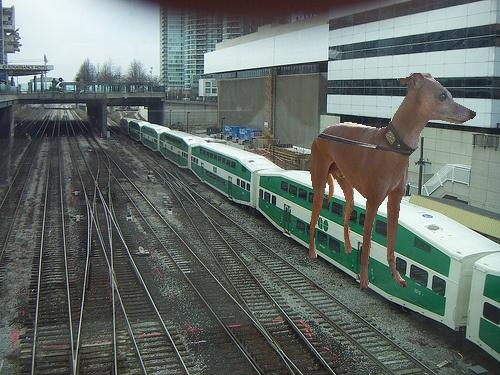tampered: (310, 74, 476, 290)
